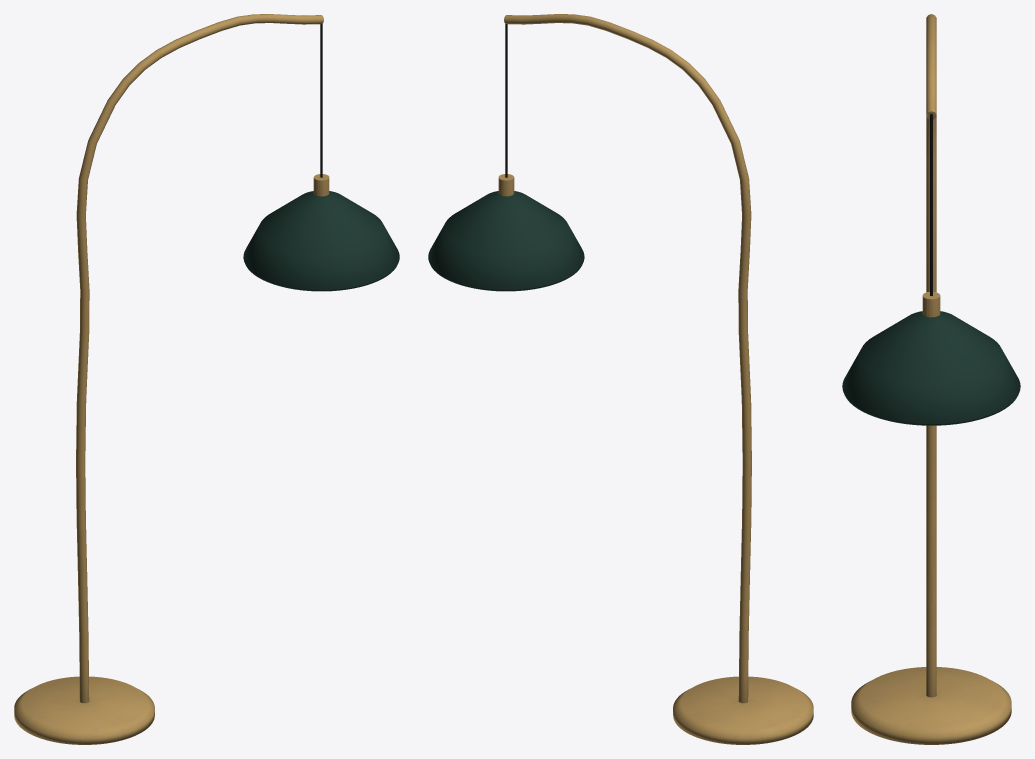
The model's file is dome-green.glb.
3 views of the same model, side by side, from view 1: azimuth 30°, elevation 25°; view 2: azimuth 150°, elevation 25°; view 3: azimuth 270°, elevation 25° (orthographic). The views are drawn at different scales.
Parts seen in each view (by area): view 1: brass, paint_primary_shade; view 2: brass, paint_primary_shade; view 3: brass, paint_primary_shade, cord.
Part boxes in pixels (left/top/right/bottom): brass: left=14, top=14, right=329, bottom=744; paint_primary_shade: left=243, top=191, right=399, bottom=291; brass: left=498, top=14, right=813, bottom=744; paint_primary_shade: left=428, top=191, right=584, bottom=291; brass: left=851, top=14, right=1011, bottom=744; paint_primary_shade: left=842, top=311, right=1020, bottom=425; cord: left=930, top=114, right=932, bottom=295.
Size of the model in its own units: 1.08 by 1.86 by 0.4.
4 materials, 2 textured.
